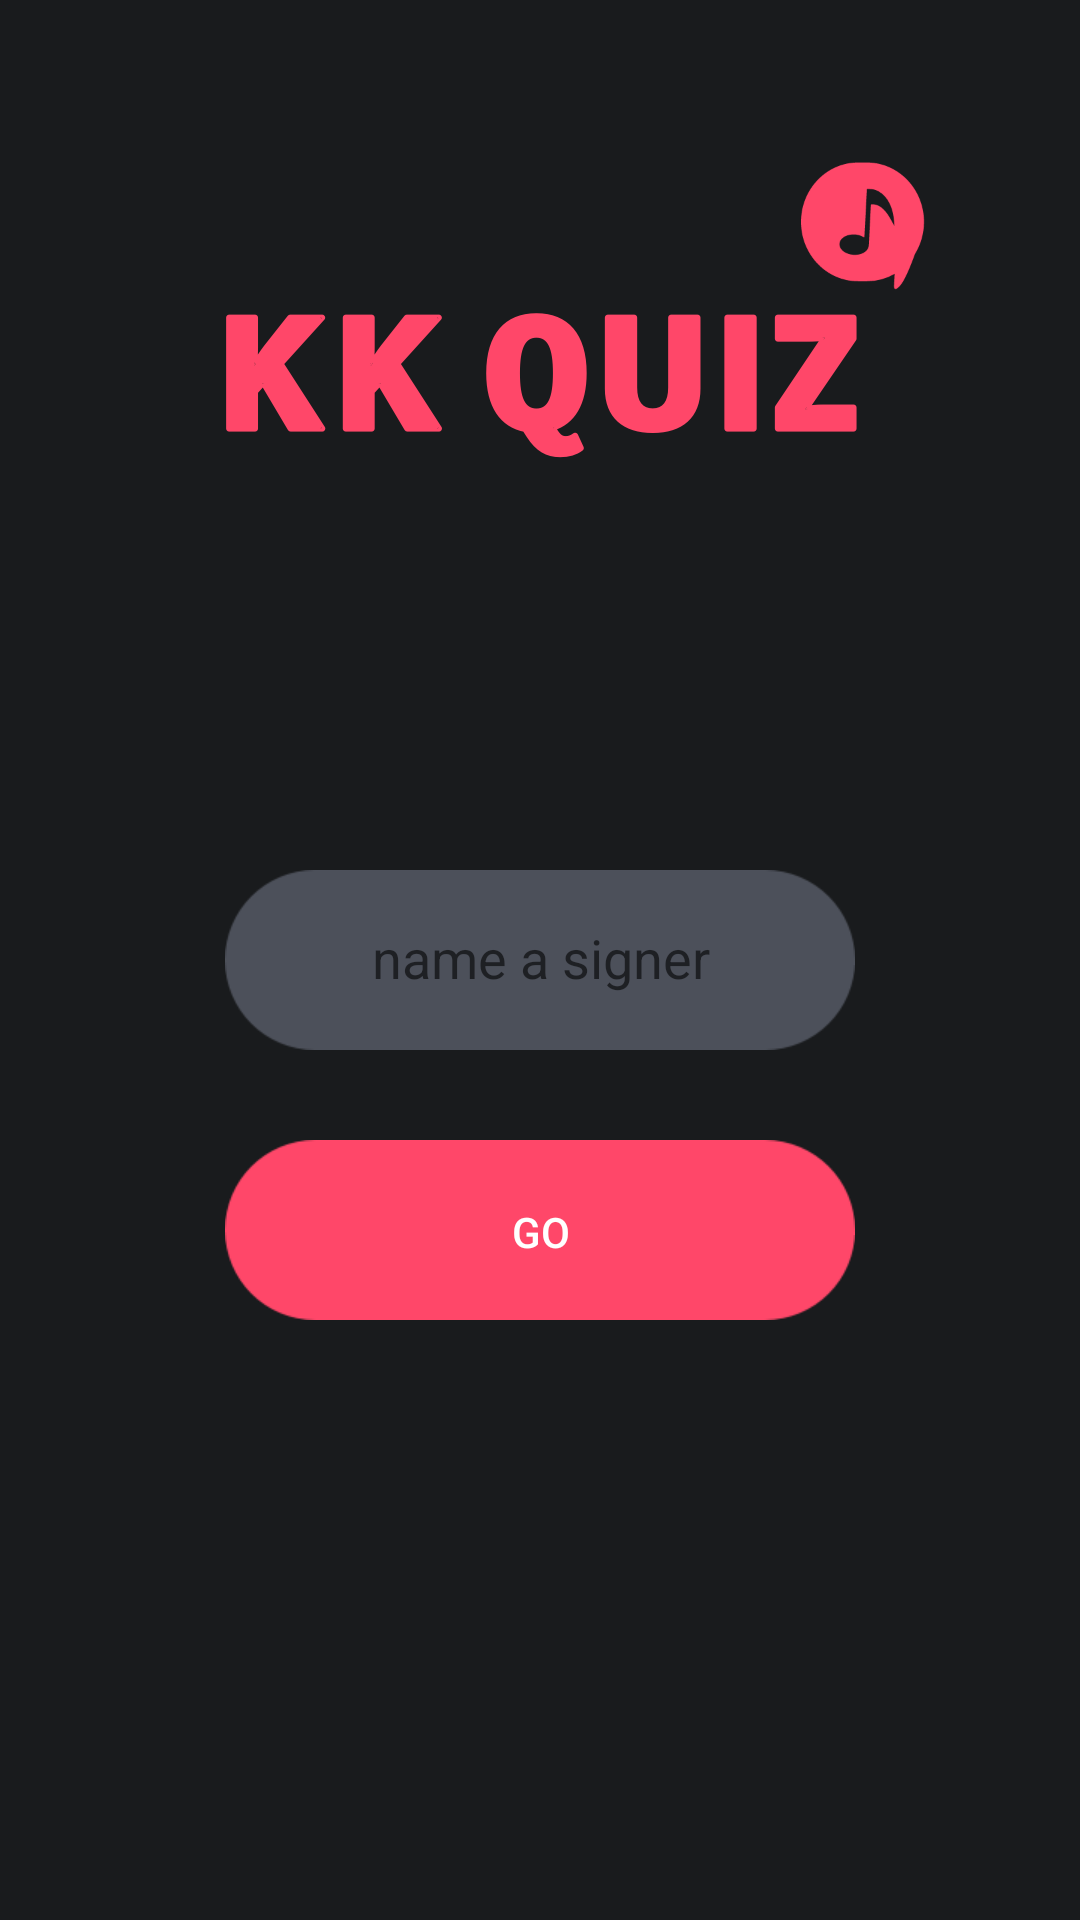

Where icons sit on this 1080px×1920px app screen, as detection(x1, y1, x2, y2):
note: detection(801, 162, 925, 290)
